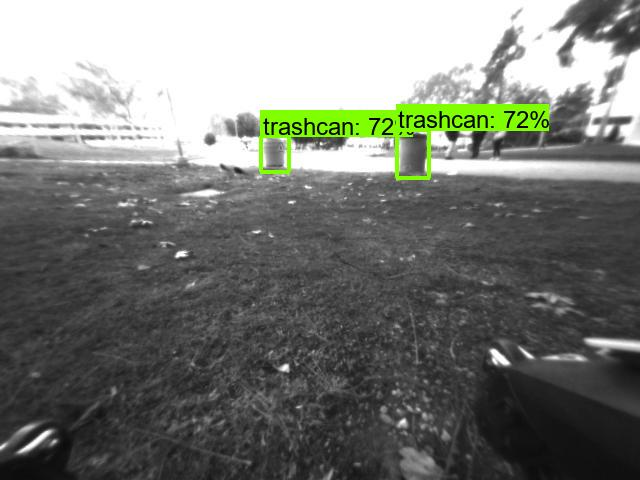trashcan: (398, 130, 428, 178), (258, 136, 294, 174)
